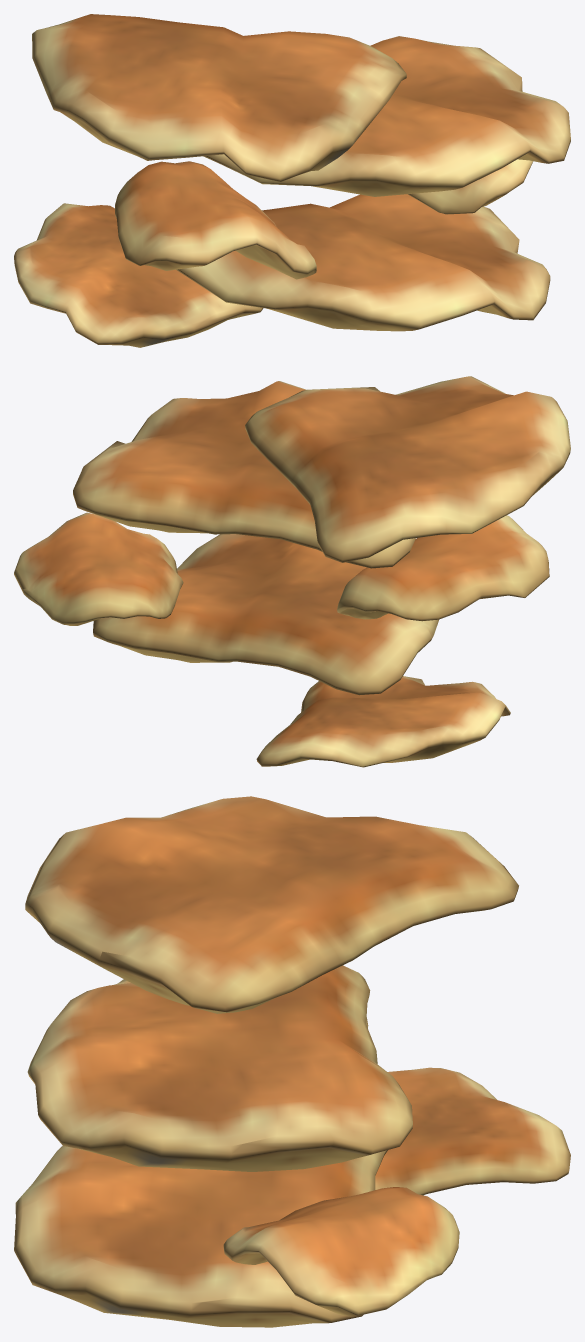
File: mushroom_laetiporus.glb
3 views of the same model, one above another, from view 1: azimuth 30°, elevation 25°; view 2: azimuth 150°, elevation 25°; view 3: azimuth 270°, elevation 25° (orthographic). The views are drawn at different scales.
Visible parts, largest first — view 1: Mushroom_Laetiporus; view 2: Mushroom_Laetiporus; view 3: Mushroom_Laetiporus.
Boxes of the visible parts, x1,y1,x2,y2 form: Mushroom_Laetiporus: (14,14,570,347); Mushroom_Laetiporus: (14,376,570,767); Mushroom_Laetiporus: (14,796,570,1327).
Size of the model in its own units: 1.37 by 0.767 by 1.1.
1 material, 1 textured.
